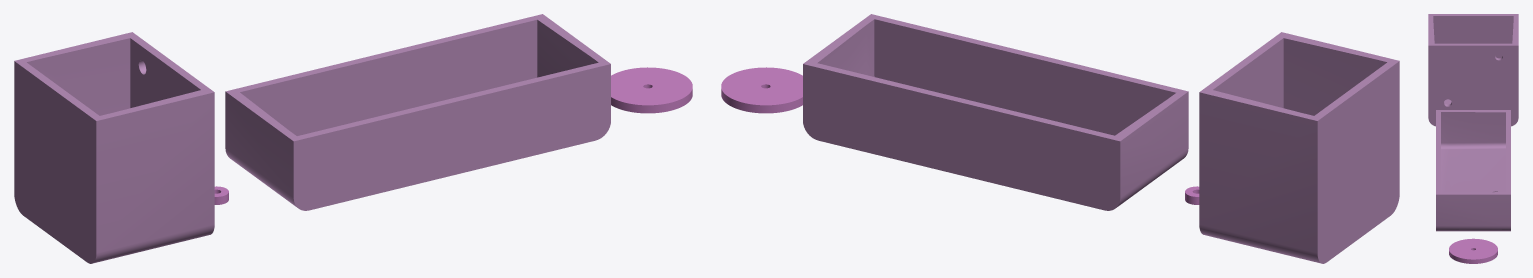
Rendered from tacto48-plantillas.glb.
3 renders of one model, left to right at view 1: azimuth 30°, elevation 25°; view 2: azimuth 150°, elevation 25°; view 3: azimuth 270°, elevation 25°, orthographic. The views are drawn at different scales.
Parts seen in each view (by area): view 1: pieza_2, pieza_0, pieza_3; view 2: pieza_2, pieza_0, pieza_3; view 3: pieza_2, pieza_0, pieza_3.
Part boxes in pixels (<box>): pieza_2: <box>225,14,610,210</box>; pieza_0: <box>14,32,214,263</box>; pieza_3: <box>611,67,692,113</box>; pieza_2: <box>803,14,1188,210</box>; pieza_0: <box>1199,32,1399,263</box>; pieza_3: <box>721,67,802,113</box>; pieza_2: <box>1436,110,1510,231</box>; pieza_0: <box>1428,14,1518,126</box>; pieza_3: <box>1449,238,1497,263</box>.
Bounding box in the file's own units: 0.1954 × 0.0438 × 0.0441.
